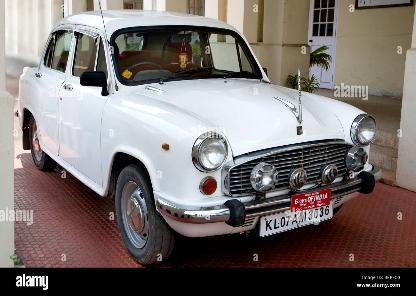car: (14, 4, 388, 260)
